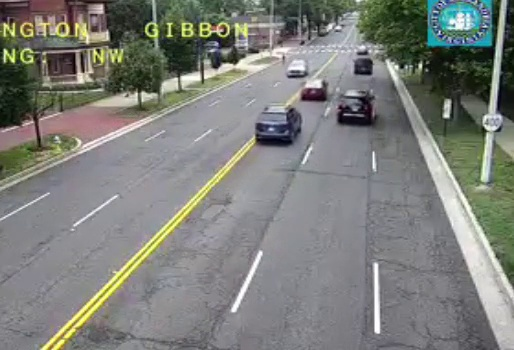car: (255, 106, 301, 141), (337, 90, 372, 122), (300, 79, 325, 101), (353, 59, 373, 75)
